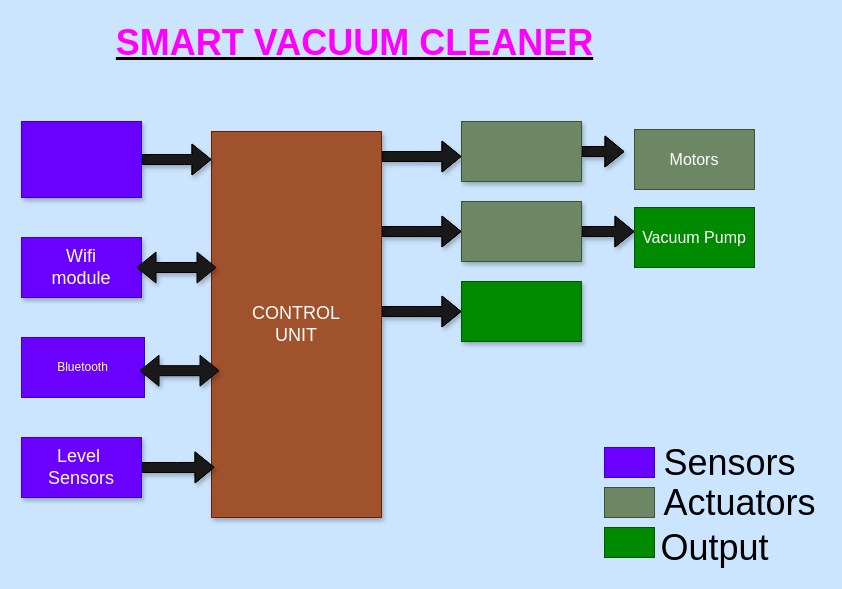
The diagram is 842 pixels wide and 589 high, and some of its shapes have lost their labels. Each missing label, with the centre of its shape:
"Driver" goes at point 522,152.
"LCD" goes at point 522,312.
"Relay" goes at point 522,232.
"Ultrasonic Sensors" goes at point 82,160.
